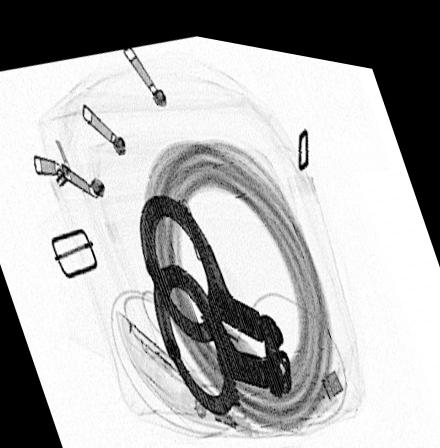HandCuffs: (137, 183, 294, 412)
